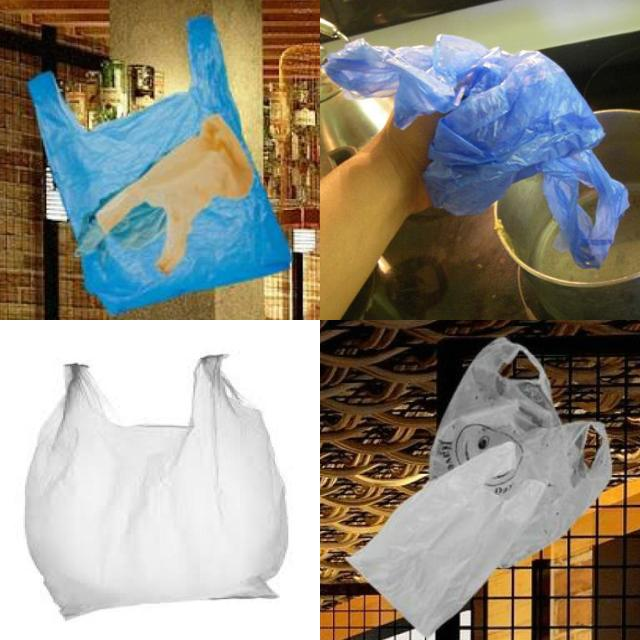Single-layer Plastic: (29, 16, 290, 314), (325, 35, 629, 267), (25, 356, 288, 616), (430, 338, 611, 564), (350, 441, 546, 635), (81, 114, 254, 273)
